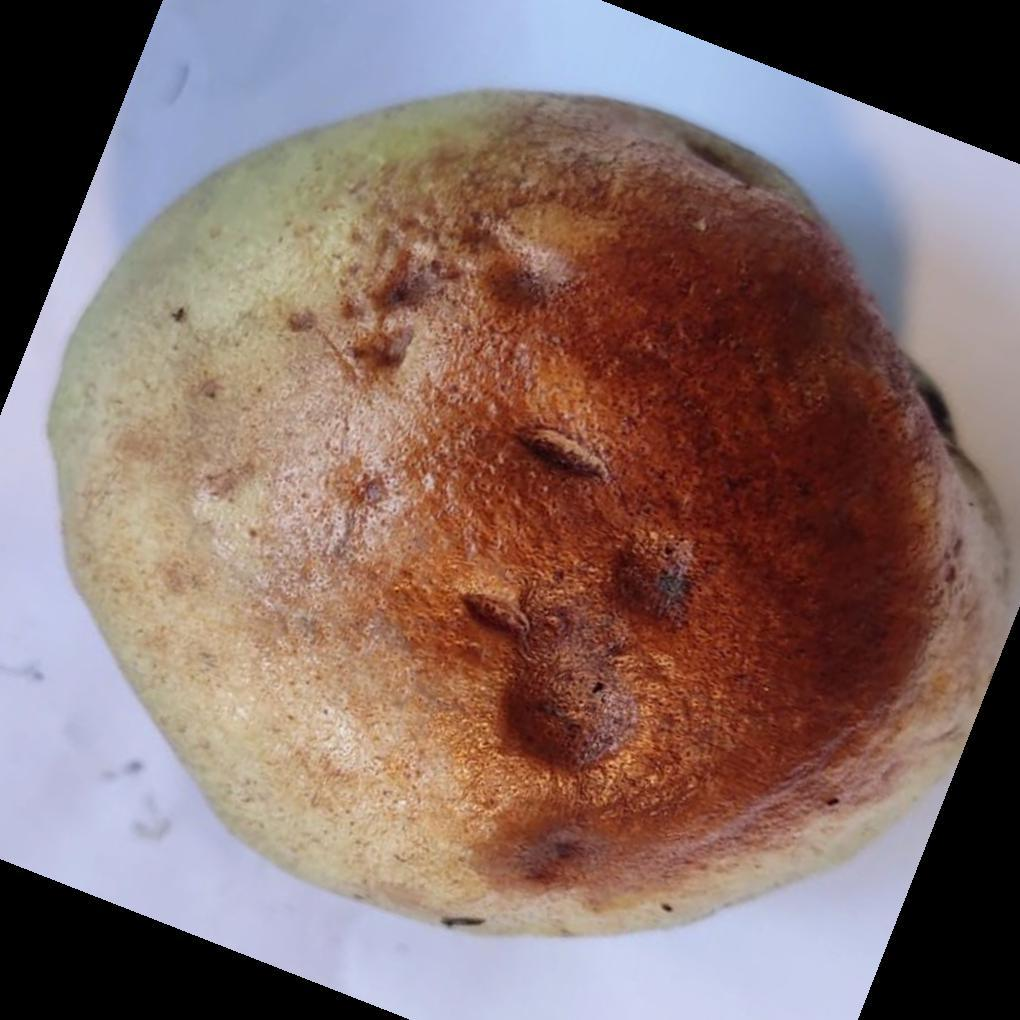FreshOrange: (44, 89, 1011, 945)
